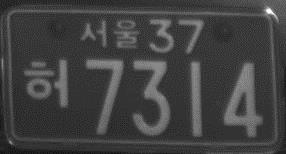1: (184, 59, 208, 139)
3: (129, 57, 172, 138), (146, 16, 175, 54)
4: (220, 59, 264, 141)
7: (82, 57, 125, 136), (176, 17, 204, 54)
서울_O: (79, 16, 141, 52)
허: (24, 55, 72, 109)
